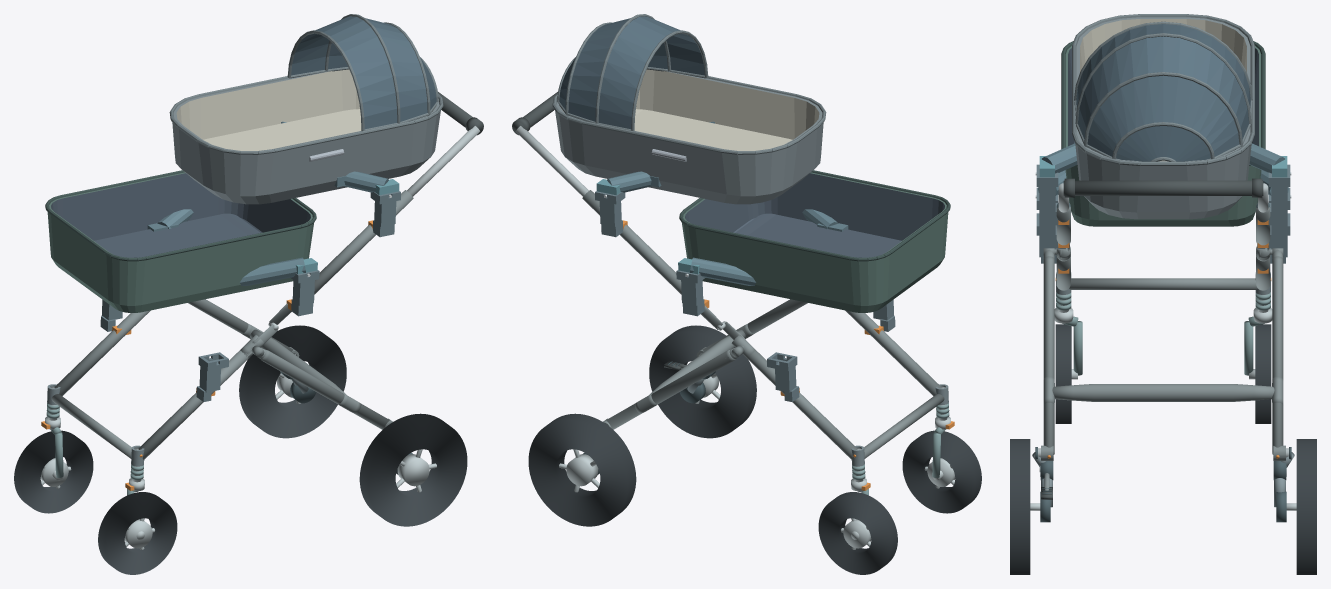
The model's file is D09_w550_state1_wheel_M.glb.
3 views of the same model, side by side, from view 1: azimuth 30°, elevation 25°; view 2: azimuth 150°, elevation 25°; view 3: azimuth 270°, elevation 25° (orthographic). The views are drawn at different scales.
Parts seen in each view (by area): view 1: D09_Upper, D09_Lower, RL_tire.002, RR_tire.002, FL_tire.002, FR_tire.002, D09_Lower_Mount_M, V46_rear_leg_-1.003, main_lower_-1.003, main_lower_1.003, main_upper_-1.003, Universal_Cabin_Receiver_L_-1 (+8 smaller); view 2: D09_Upper, D09_Lower, RR_tire.002, RL_tire.002, FR_tire.002, FL_tire.002, D09_Lower_Mount_M, V46_rear_leg_1.003, main_lower_1.003, main_lower_-1.003, main_upper_1.003, Universal_Cabin_Receiver_L_1 (+8 smaller); view 3: D09_Upper, D09_Lower, V46_rearbar.003, round_handle.002, RL_tire.002, RR_tire.002, front_fixed_round_tube.002, V46_rear_leg_-1.003, V46_rear_leg_1.003, D09_Upper_Mount_H, FL_tire.002, FR_tire.002 (+10 smaller).
Part boxes in pixels (bbox=[...]): D09_Upper: bbox=[169, 14, 443, 204]; D09_Lower: bbox=[45, 170, 316, 312]; RL_tire.002: bbox=[359, 413, 467, 526]; RR_tire.002: bbox=[239, 325, 346, 438]; FL_tire.002: bbox=[98, 492, 177, 574]; FR_tire.002: bbox=[14, 430, 93, 513]; D09_Lower_Mount_M: bbox=[147, 209, 317, 285]; V46_rear_leg_-1.003: bbox=[260, 350, 389, 429]; main_lower_-1.003: bbox=[138, 350, 251, 459]; main_lower_1.003: bbox=[54, 310, 150, 396]; main_upper_-1.003: bbox=[314, 190, 413, 294]; Universal_Cabin_Receiver_L_-1: bbox=[196, 352, 228, 401]; D09_Upper: bbox=[552, 14, 826, 204]; D09_Lower: bbox=[679, 170, 950, 312]; RR_tire.002: bbox=[528, 413, 636, 526]; RL_tire.002: bbox=[649, 325, 756, 438]; FR_tire.002: bbox=[818, 492, 897, 574]; FL_tire.002: bbox=[902, 430, 981, 513]; D09_Lower_Mount_M: bbox=[678, 209, 848, 285]; V46_rear_leg_1.003: bbox=[606, 350, 735, 429]; main_lower_1.003: bbox=[744, 350, 857, 459]; main_lower_-1.003: bbox=[845, 310, 941, 396]; main_upper_1.003: bbox=[582, 190, 681, 294]; Universal_Cabin_Receiver_L_1: bbox=[767, 352, 799, 401]; D09_Upper: bbox=[1072, 14, 1254, 219]; D09_Lower: bbox=[1061, 41, 1265, 226]; V46_rearbar.003: bbox=[1052, 384, 1274, 401]; round_handle.002: bbox=[1063, 180, 1263, 195]; RL_tire.002: bbox=[1010, 439, 1030, 574]; RR_tire.002: bbox=[1296, 439, 1316, 574]; front_fixed_round_tube.002: bbox=[1069, 278, 1257, 289]; V46_rear_leg_-1.003: bbox=[1043, 256, 1054, 454]; V46_rear_leg_1.003: bbox=[1272, 256, 1283, 454]; D09_Upper_Mount_H: bbox=[1035, 143, 1291, 177]; FL_tire.002: bbox=[1055, 324, 1071, 423]; FR_tire.002: bbox=[1255, 324, 1271, 423].
Size of the model in its own units: 1.16 by 1.32 by 0.6771.
